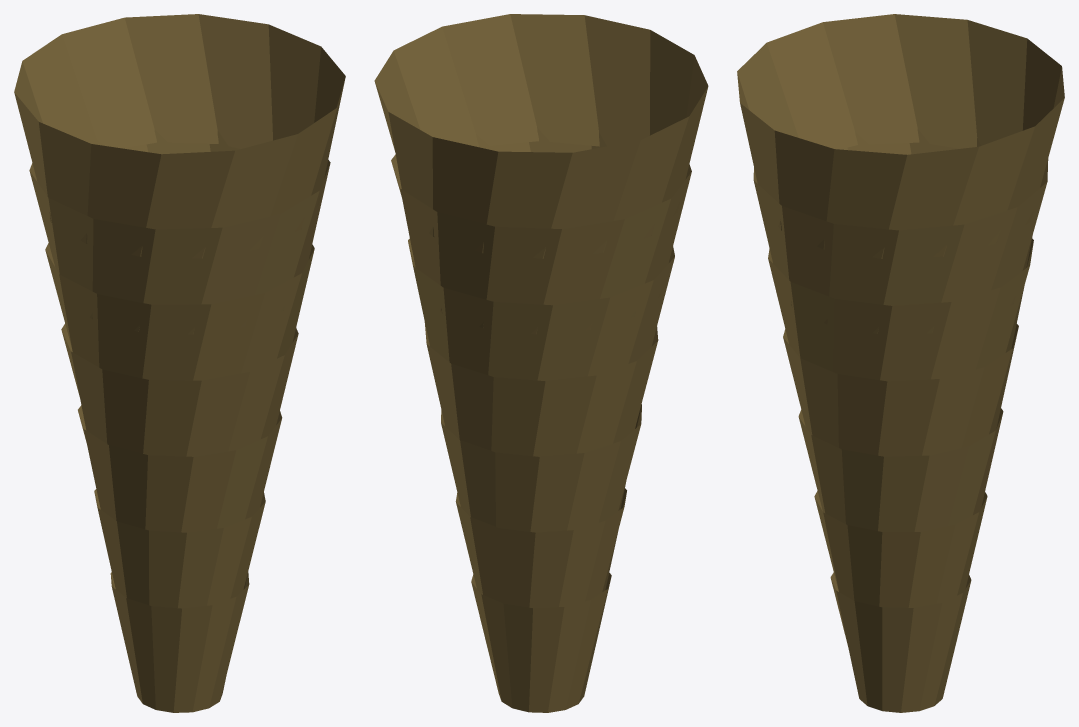
Rendered from SM_MP_Dust_Plume.fbx.
3 views of the same model, side by side, from view 1: azimuth 30°, elevation 25°; view 2: azimuth 150°, elevation 25°; view 3: azimuth 270°, elevation 25° (orthographic).
Visible parts, largest first — view 1: SM_MP_Dust_Plume; view 2: SM_MP_Dust_Plume; view 3: SM_MP_Dust_Plume.
Boxes of the visible parts, x1,y1,x2,y2 form: SM_MP_Dust_Plume: [14, 14, 345, 712]; SM_MP_Dust_Plume: [374, 14, 708, 712]; SM_MP_Dust_Plume: [737, 14, 1064, 712].
Bounding box in the file's own units: 312 × 307 × 630.
Materials: 1 (1 with a texture image).
